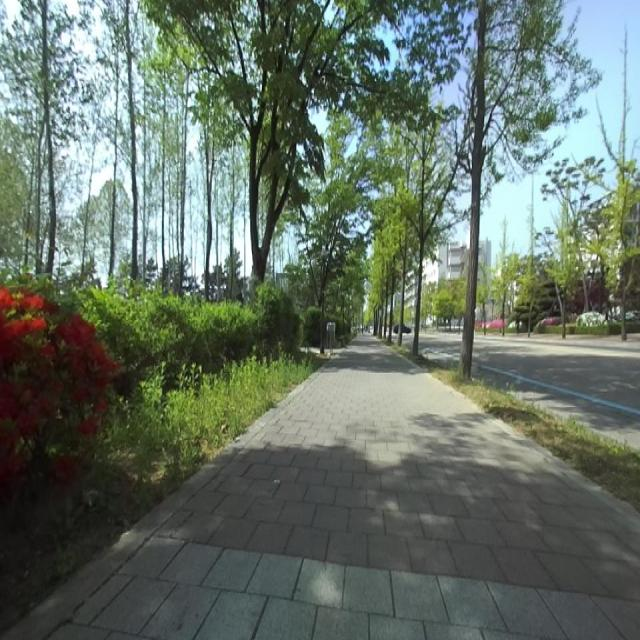sidewalk: (6, 336, 640, 639)
